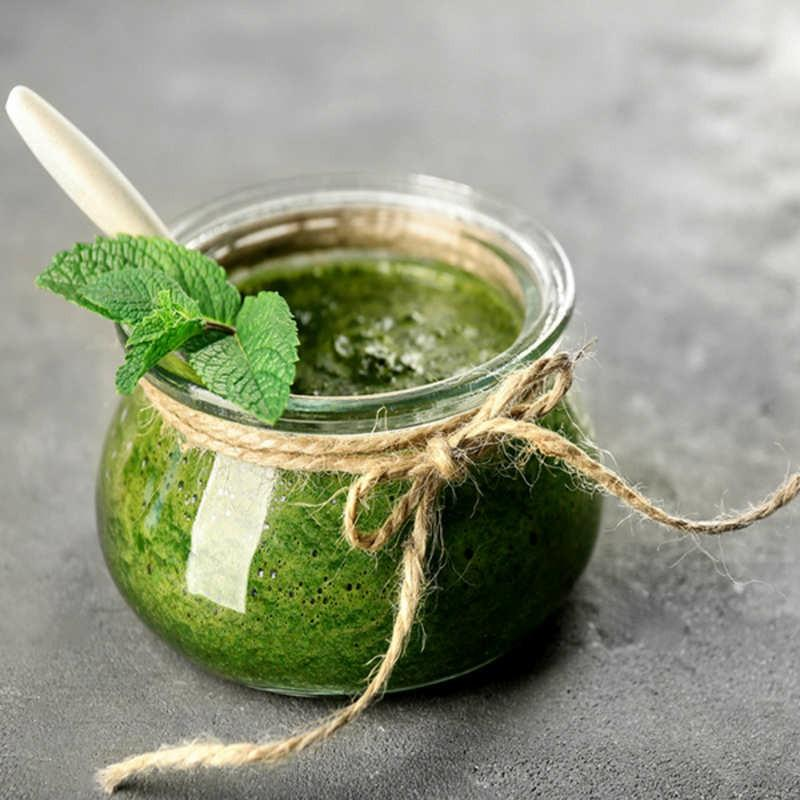GreenChutney: (99, 259, 598, 690)
